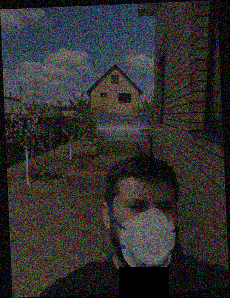with_mask: (113, 185, 178, 280)
